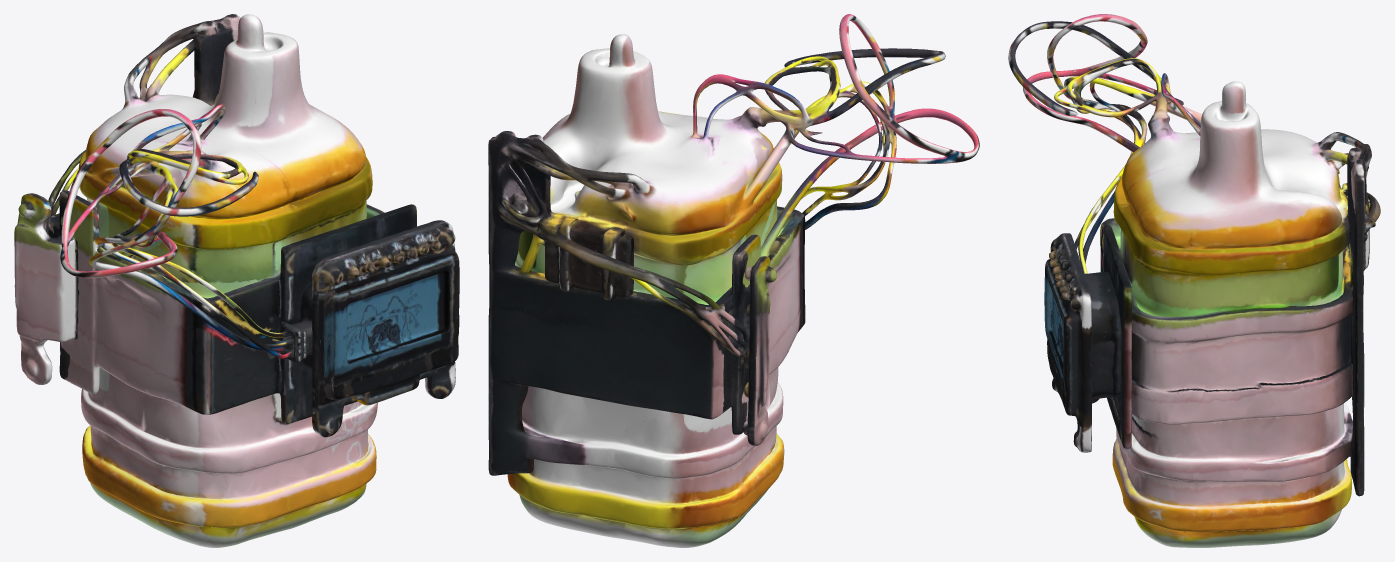
The model's file is gadget.glb.
3 views of the same model, side by side, from view 1: azimuth 30°, elevation 25°; view 2: azimuth 150°, elevation 25°; view 3: azimuth 270°, elevation 25° (orthographic). The views are drawn at different scales.
Parts seen in each view (by area): view 1: geometry_0; view 2: geometry_0; view 3: geometry_0.
Part boxes in pixels (x1=…): geometry_0: x1=14, y1=14, x2=459, y2=547; geometry_0: x1=488, y1=14, x2=979, y2=547; geometry_0: x1=1008, y1=14, x2=1380, y2=547.
Bounding box in the file's own units: 0.0861 × 0.1 × 0.0765.
Materials: 1 (1 with a texture image).
